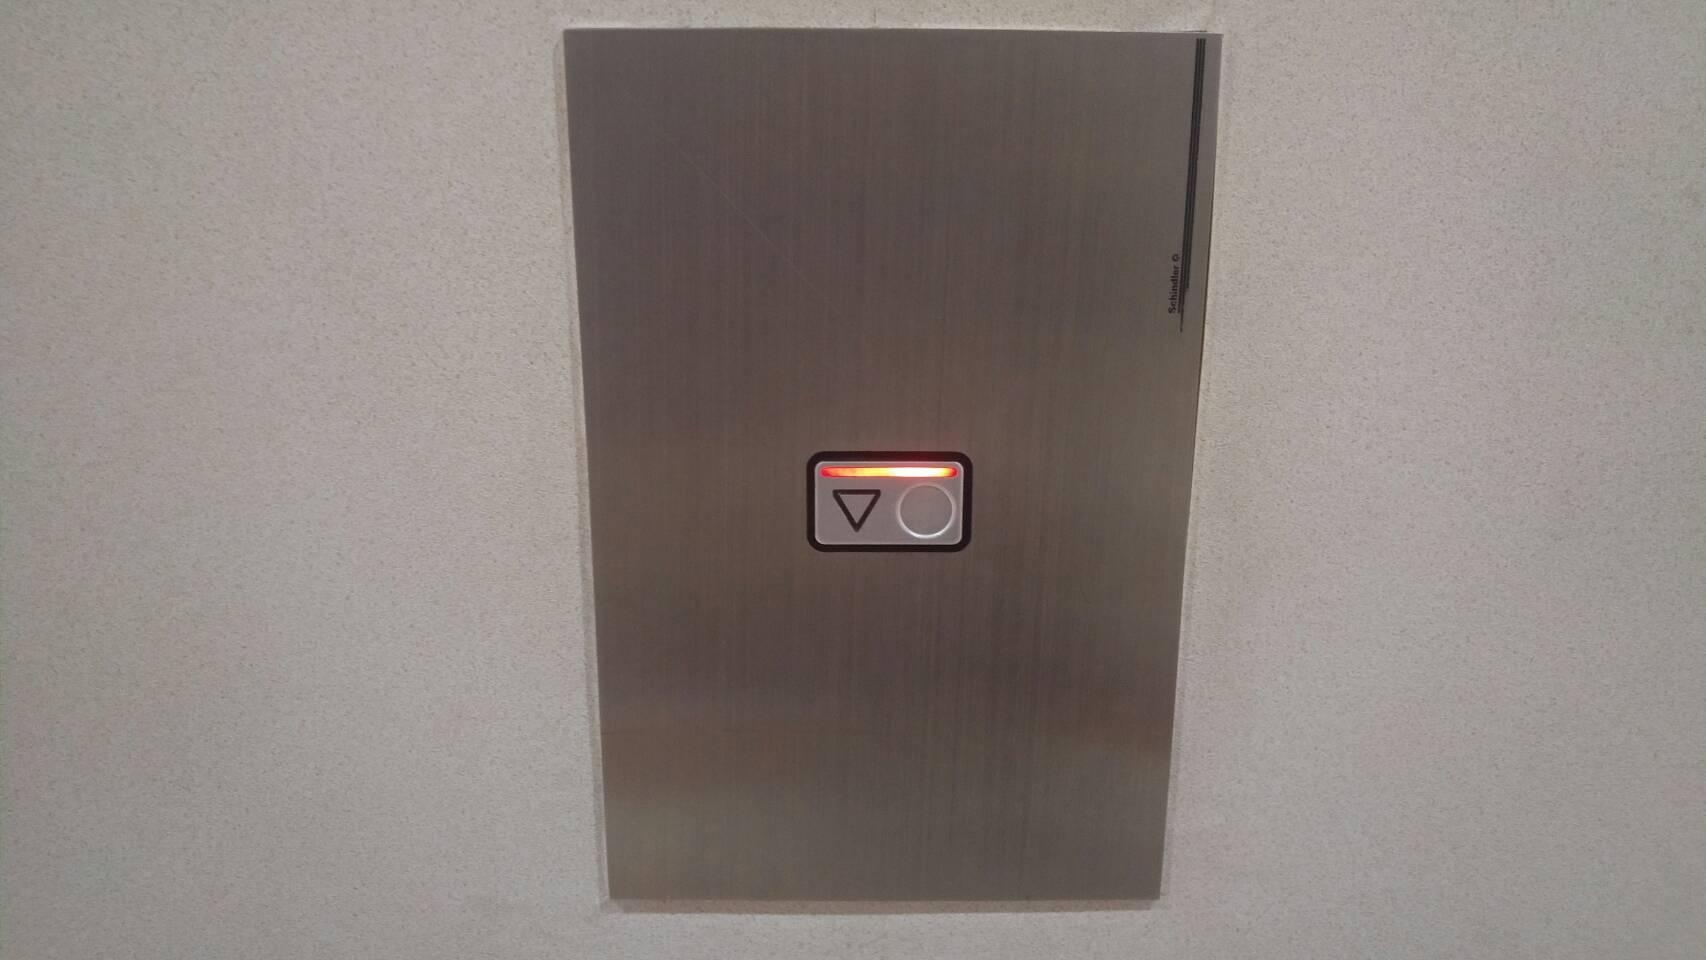down: (805, 442, 974, 559)
